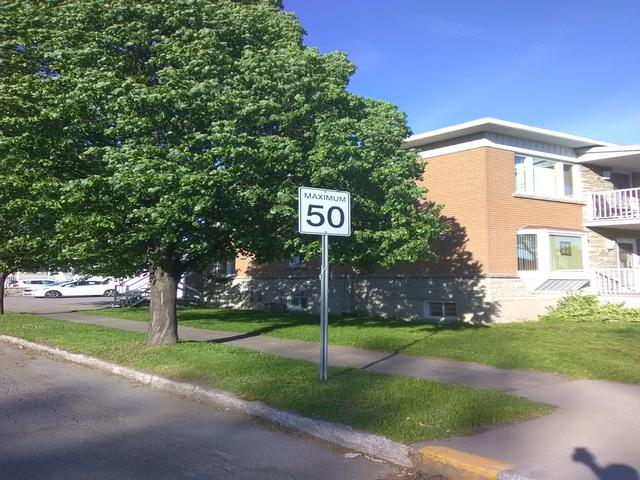vitesse: (296, 185, 353, 238)
